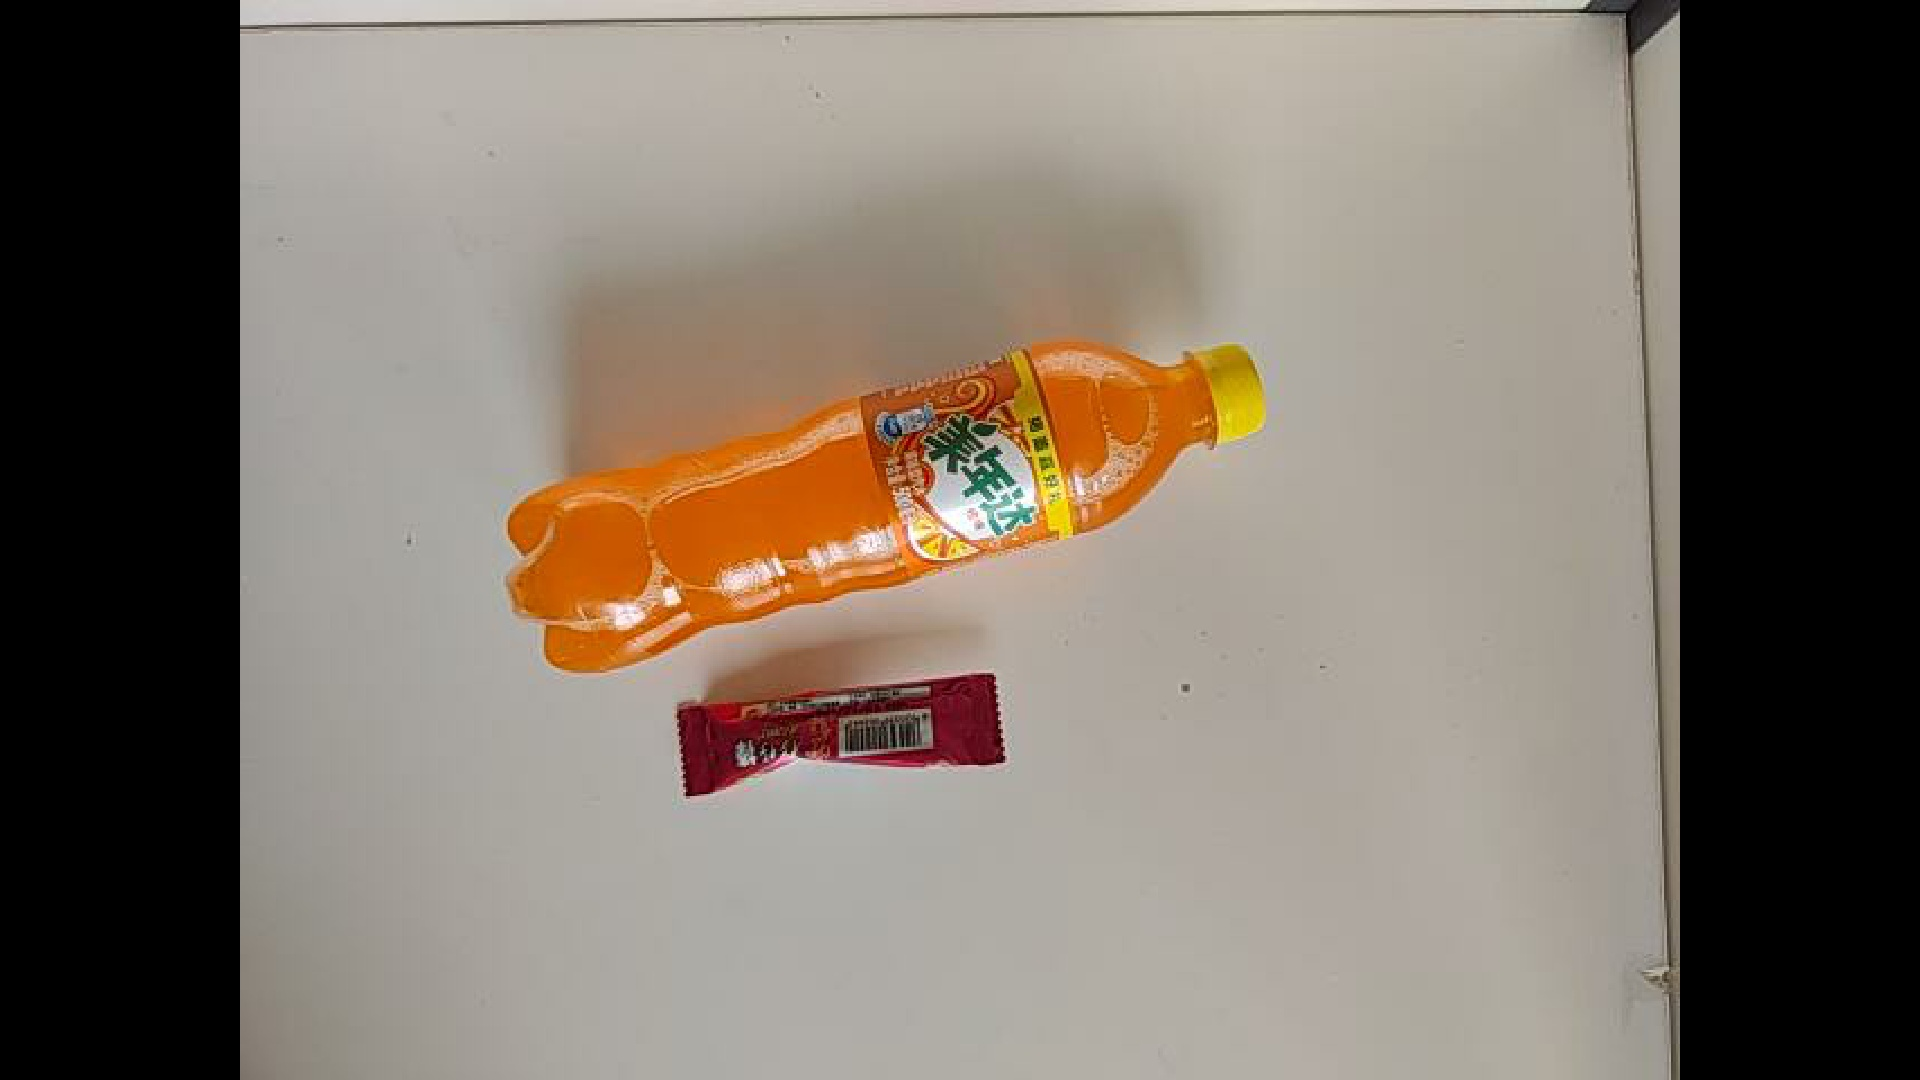fenta: (479, 375, 1335, 694)
sugar: (671, 683, 1018, 799)
